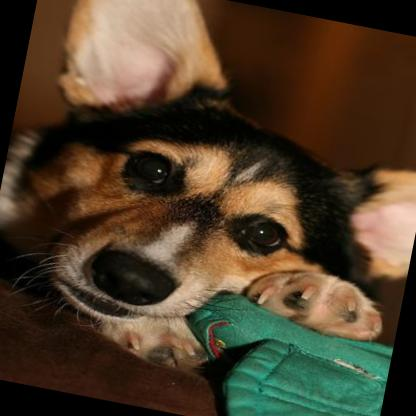Pembroke: (0, 0, 416, 408)
